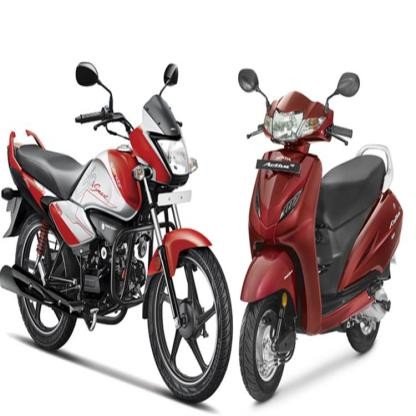bike: (0, 57, 241, 393), (235, 68, 404, 400)
